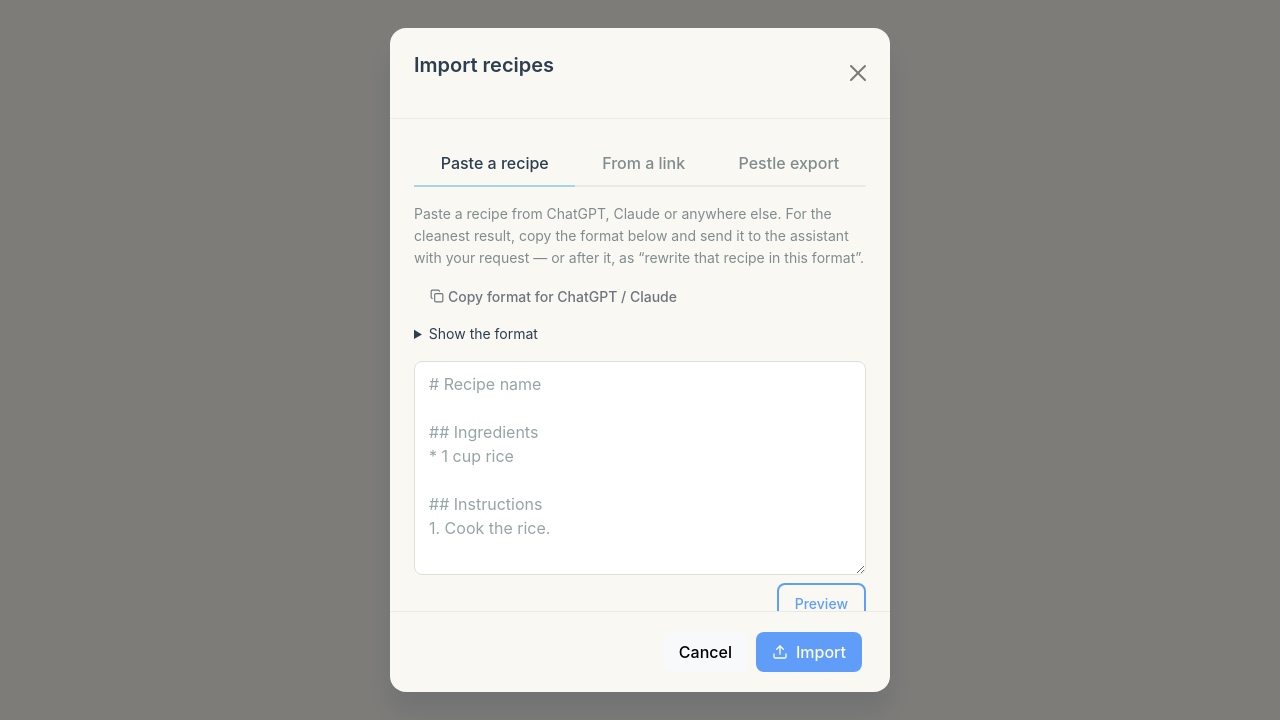
pasting a recipe › says what is wrong with text that is not a recipe
Clear the text box named "recipe text". click: (640, 468)
box: x1=414 y1=361 x2=866 y2=575
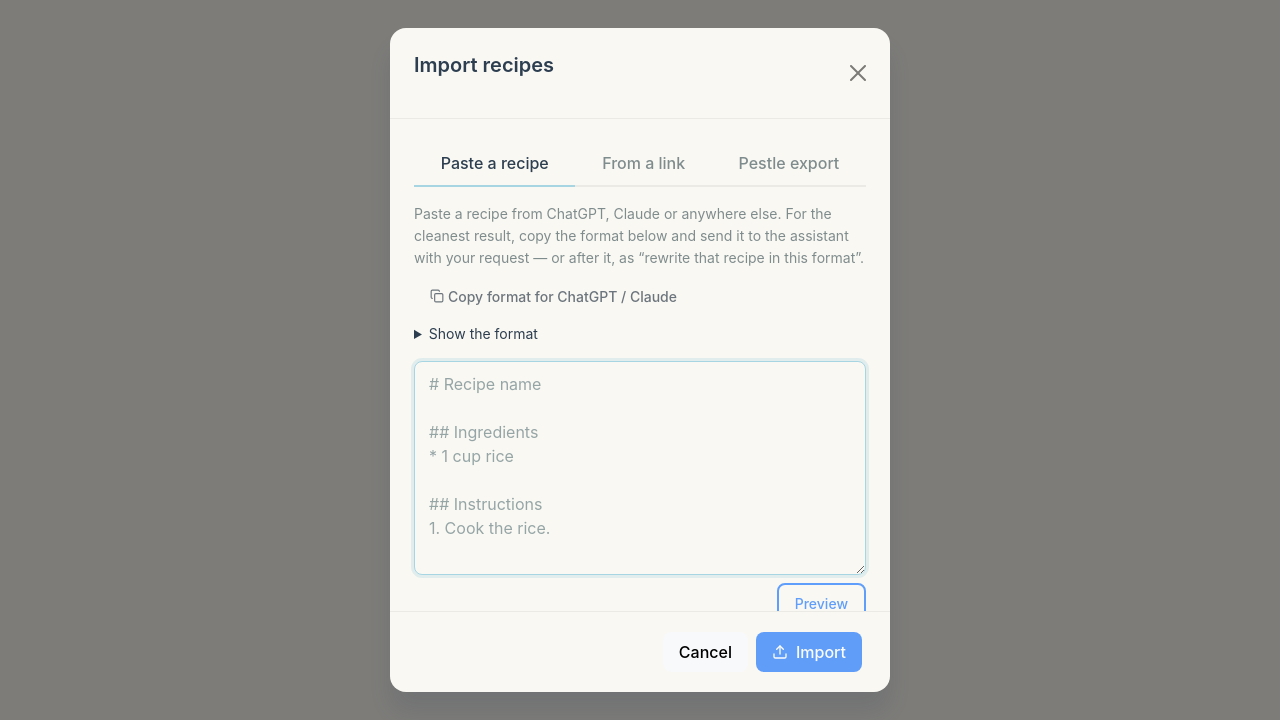
Type keys "Sure, what would you like to cook tonight?"
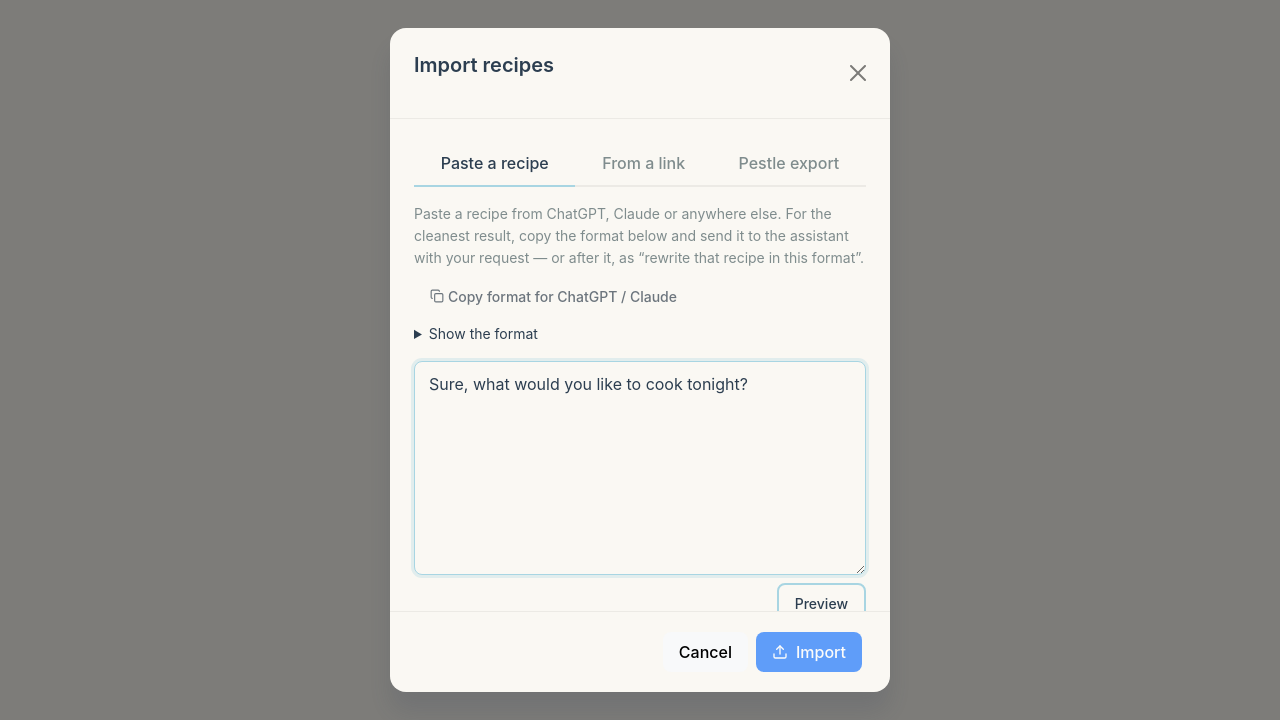
Click the button "Preview". click: (821, 604)
box: x1=777 y1=583 x2=866 y2=624
(page scrolled)
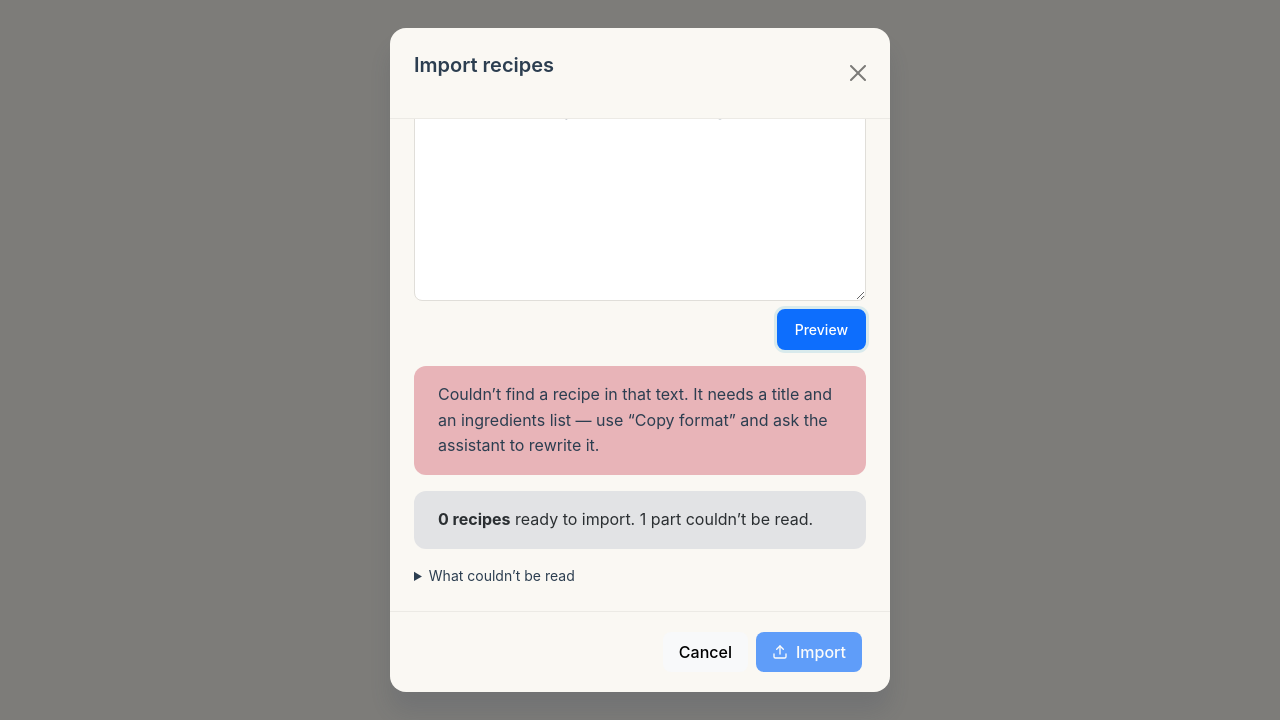
Now the text "Couldn’t find a recipe" is shown, box x1=438 y1=384 x2=832 y2=455
